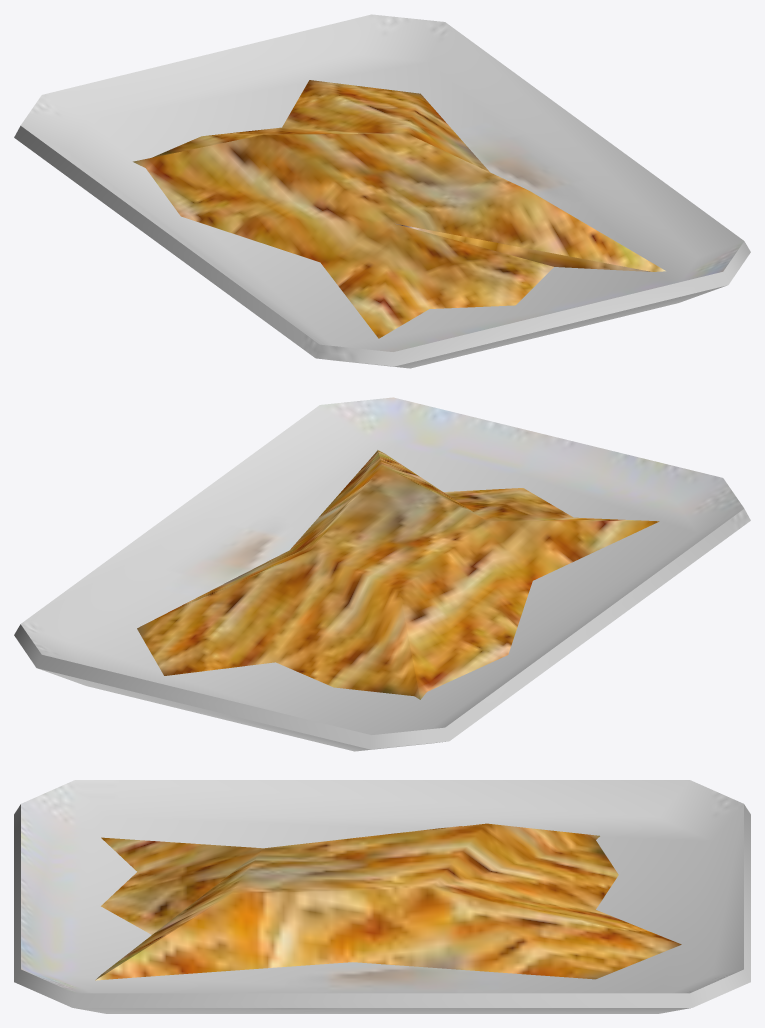
File: potato_chips_01.glb
3 views of the same model, one above another, from view 1: azimuth 30°, elevation 25°; view 2: azimuth 150°, elevation 25°; view 3: azimuth 270°, elevation 25° (orthographic). The views are drawn at different scales.
Parts seen in each view (by area): view 1: potato_chips_01; view 2: potato_chips_01; view 3: potato_chips_01.
Boxes of the visible parts, x1,y1,x2,y2 form: potato_chips_01: [14, 14, 750, 368]; potato_chips_01: [14, 397, 750, 751]; potato_chips_01: [14, 780, 750, 1013].
Size of the model in its own units: 0.1564 by 0.0213 by 0.2229.
Materials: 1 (1 with a texture image).
